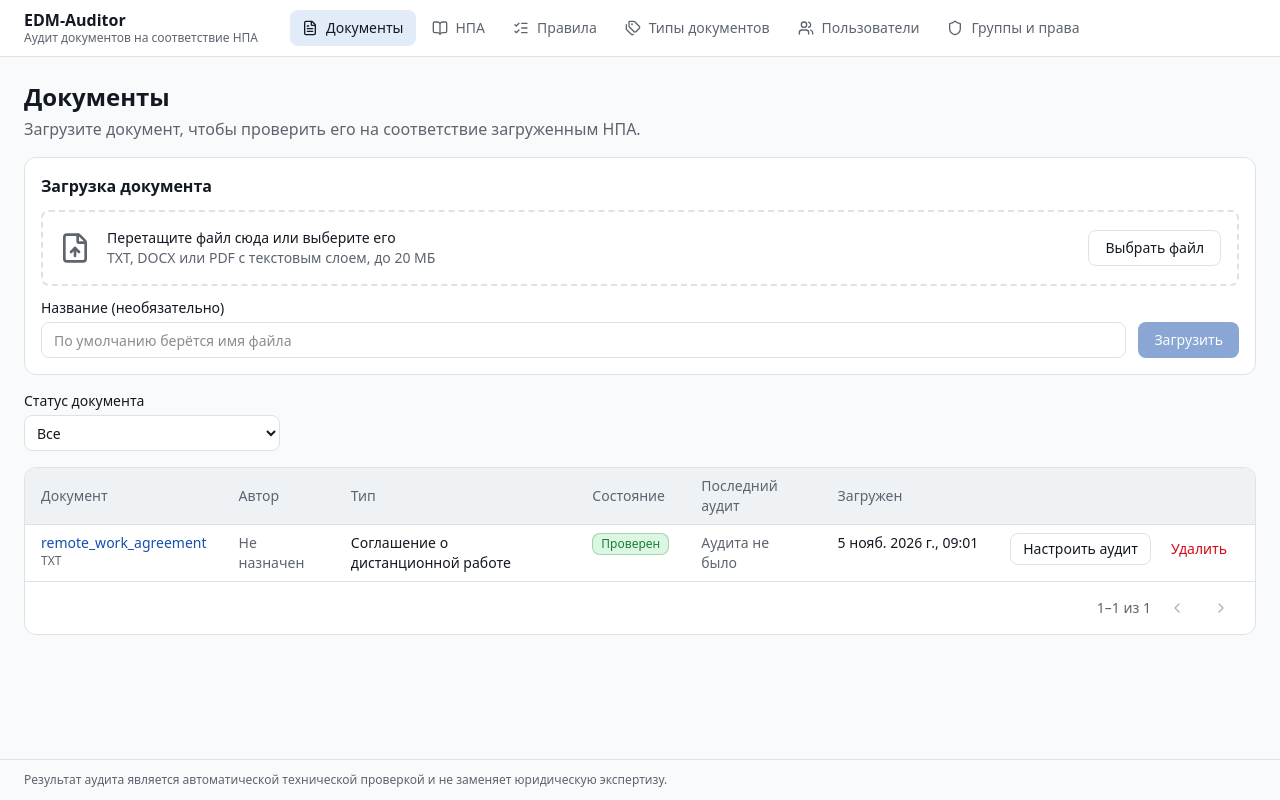
it: documents page › deletes a document only after confirmation
The image size is (1280, 800).
What coordinates should you click on to do the following:
click the button "Удалить"
I would click on:
 (1199, 549)
Its box is [1159,533,1239,565].
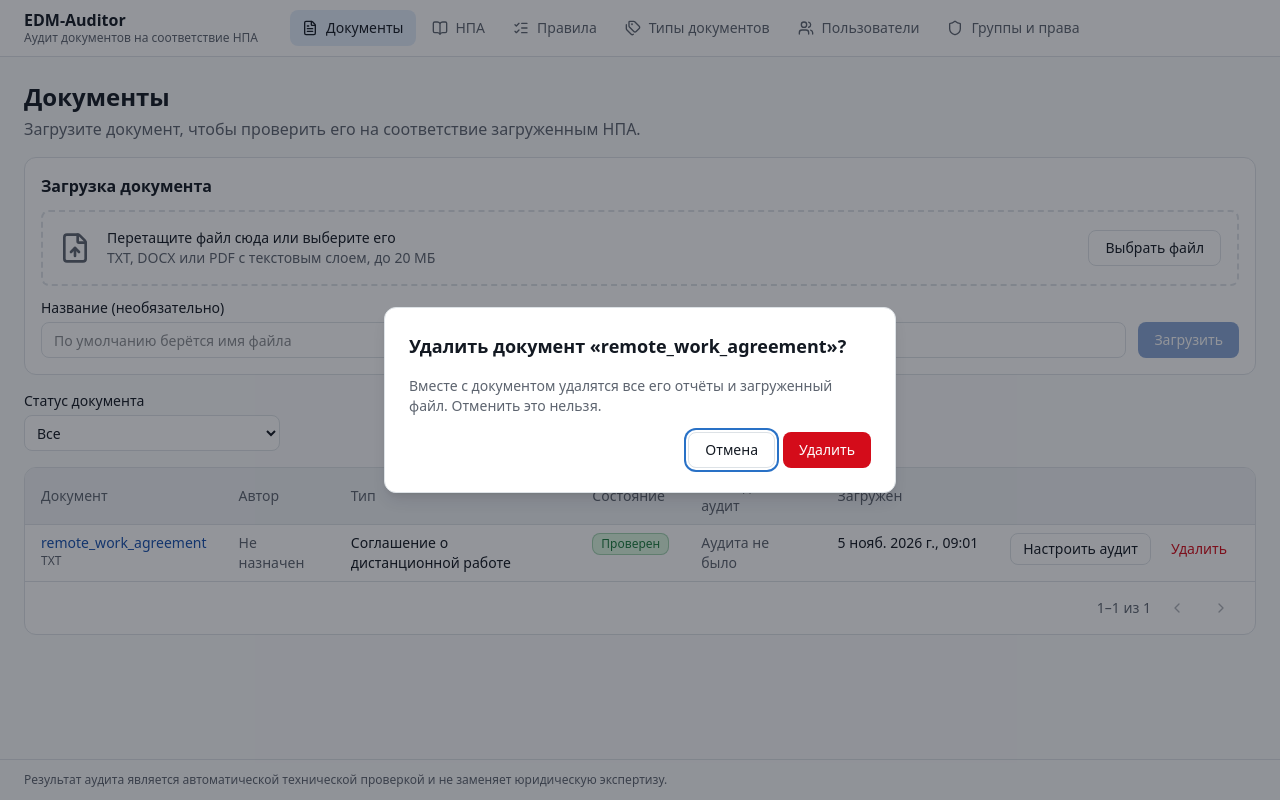
What coordinates should you click on to do the following:
click the button "Удалить"
I would click on:
 (827, 450)
Its box is [783,432,871,468].
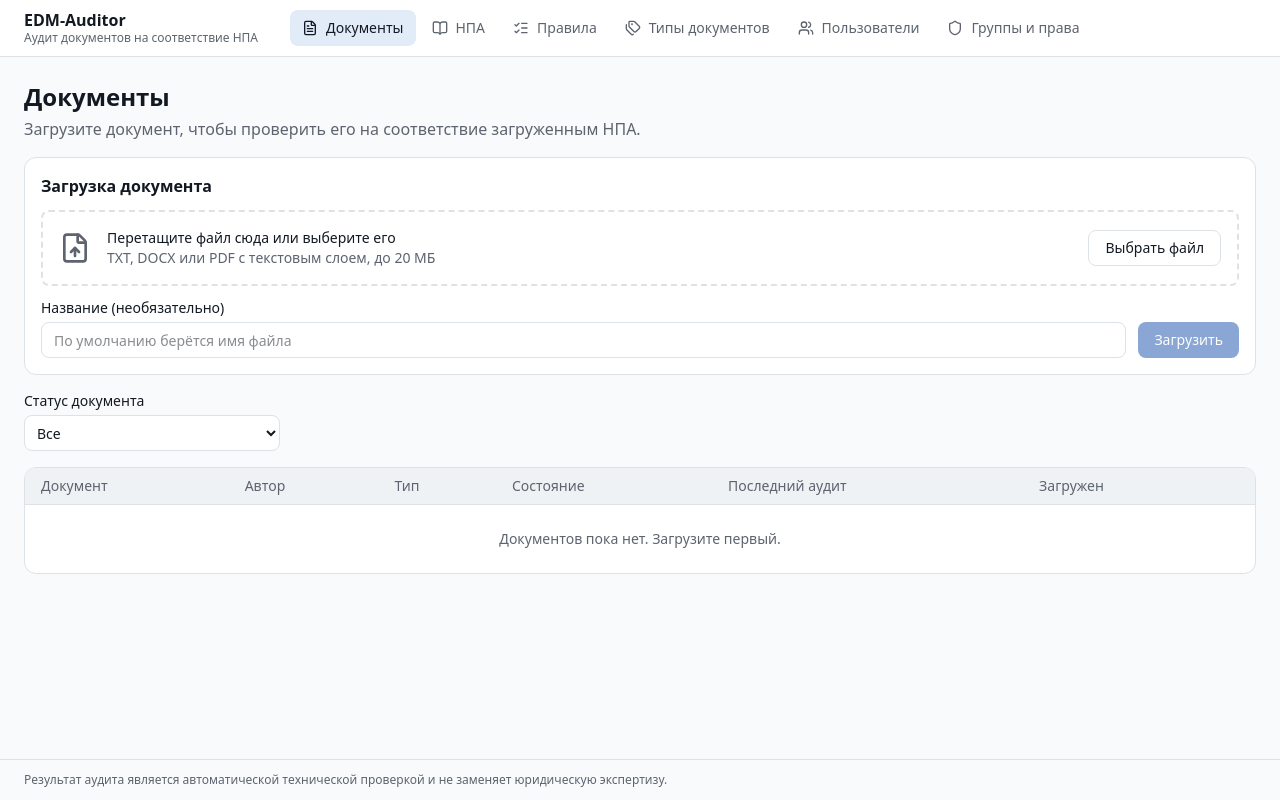
expect the text "Документов пока нет. Загрузите первый." is shown: met, box [25,504,1255,573]
